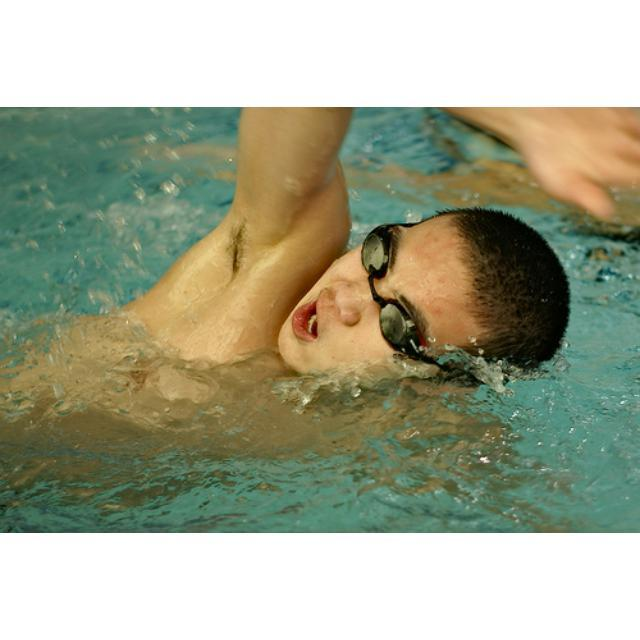human: (1, 109, 639, 461)
